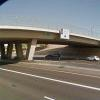Bridge: (4, 16, 94, 53)
